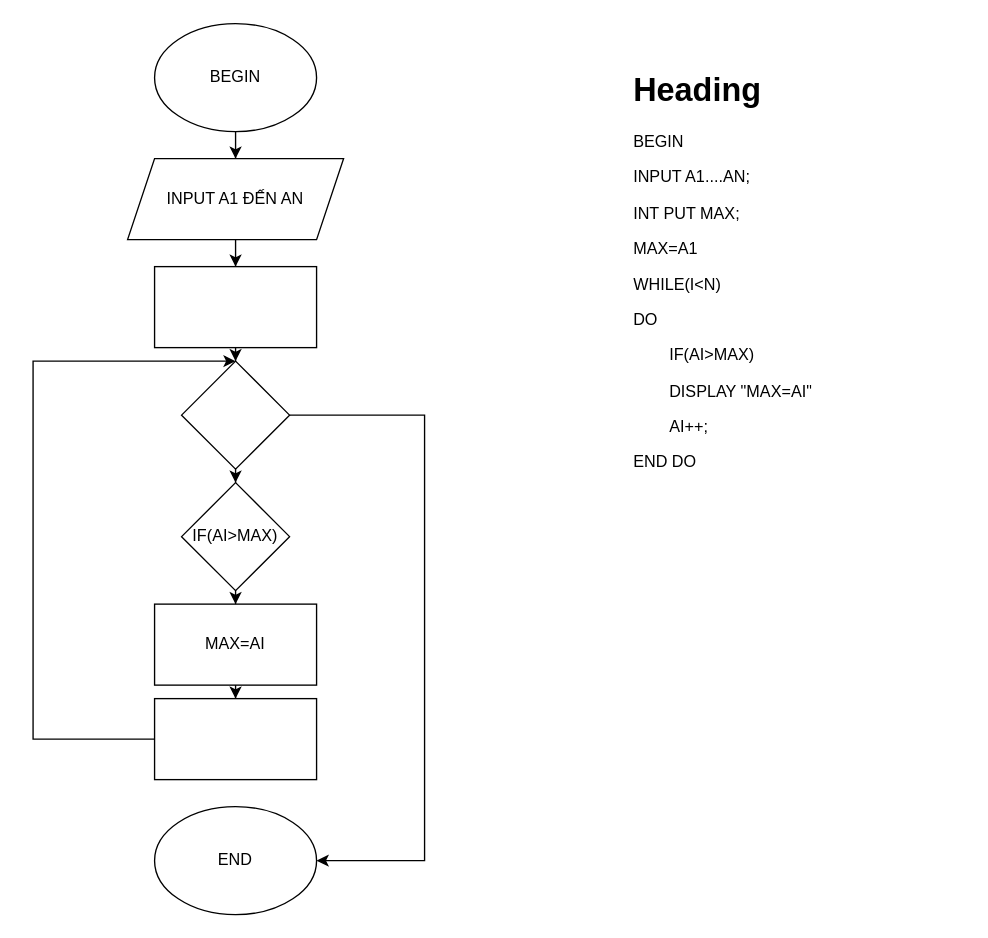
The diagram is 988 pixels wide and 938 high, and some of its shapes have lost their labels. Each missing label, with the centre of its shape:
I++: the point at 235,738
MAX =A1: the point at 235,306
WHILE (I<N): the point at 235,414
